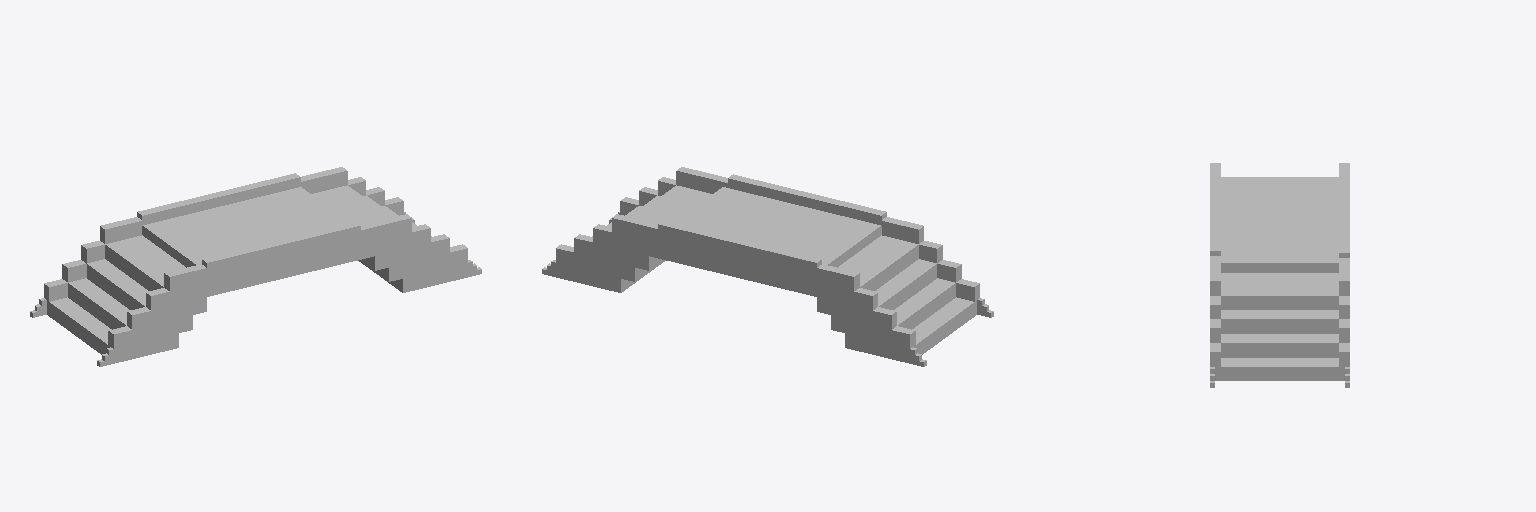
File: Bridge.obj
The picture shows the model from 3 angles: view 1: azimuth 30°, elevation 25°; view 2: azimuth 150°, elevation 25°; view 3: azimuth 270°, elevation 25°; orthographic projection.
Parts seen in each view (by area): view 1: object 1; view 2: object 1; view 3: object 1.
Part boxes in pixels (bbox=[...]): object 1: bbox=[30, 167, 481, 366]; object 1: bbox=[542, 167, 993, 366]; object 1: bbox=[1210, 163, 1349, 387].
Bounding box in the file's own units: 8.2 × 1.6 × 2.6.